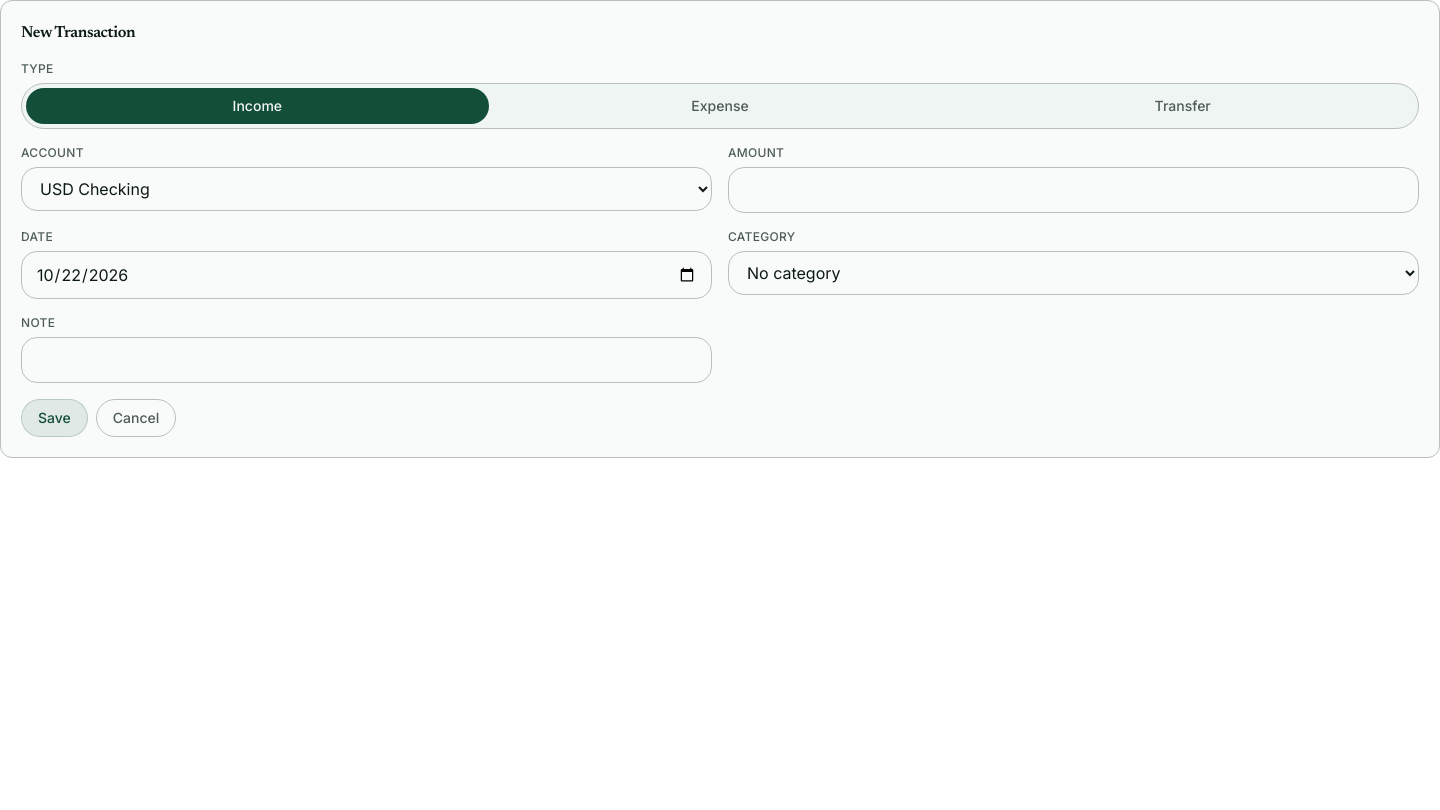
it: Automatic conversion › renders no conversion UI for a same-currency transfer
Step 1. Click the radio button labelled "Transfer" → (1183, 106), box top-left (951, 88), bottom-right (1414, 124)
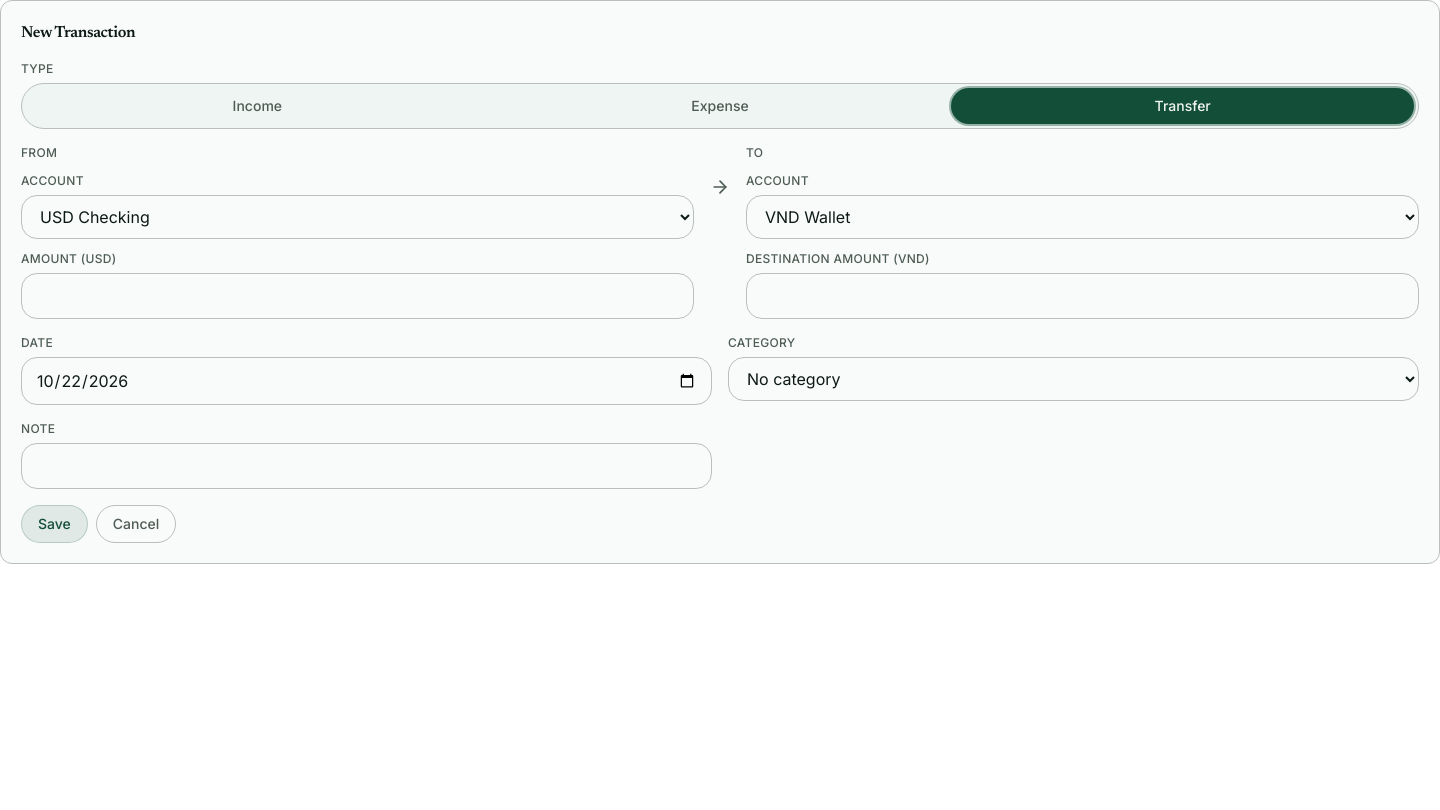
Step 2. Select "USD Savings" in the dropdown labelled "Account" below "To" → (1082, 217), box top-left (746, 195), bottom-right (1419, 239)
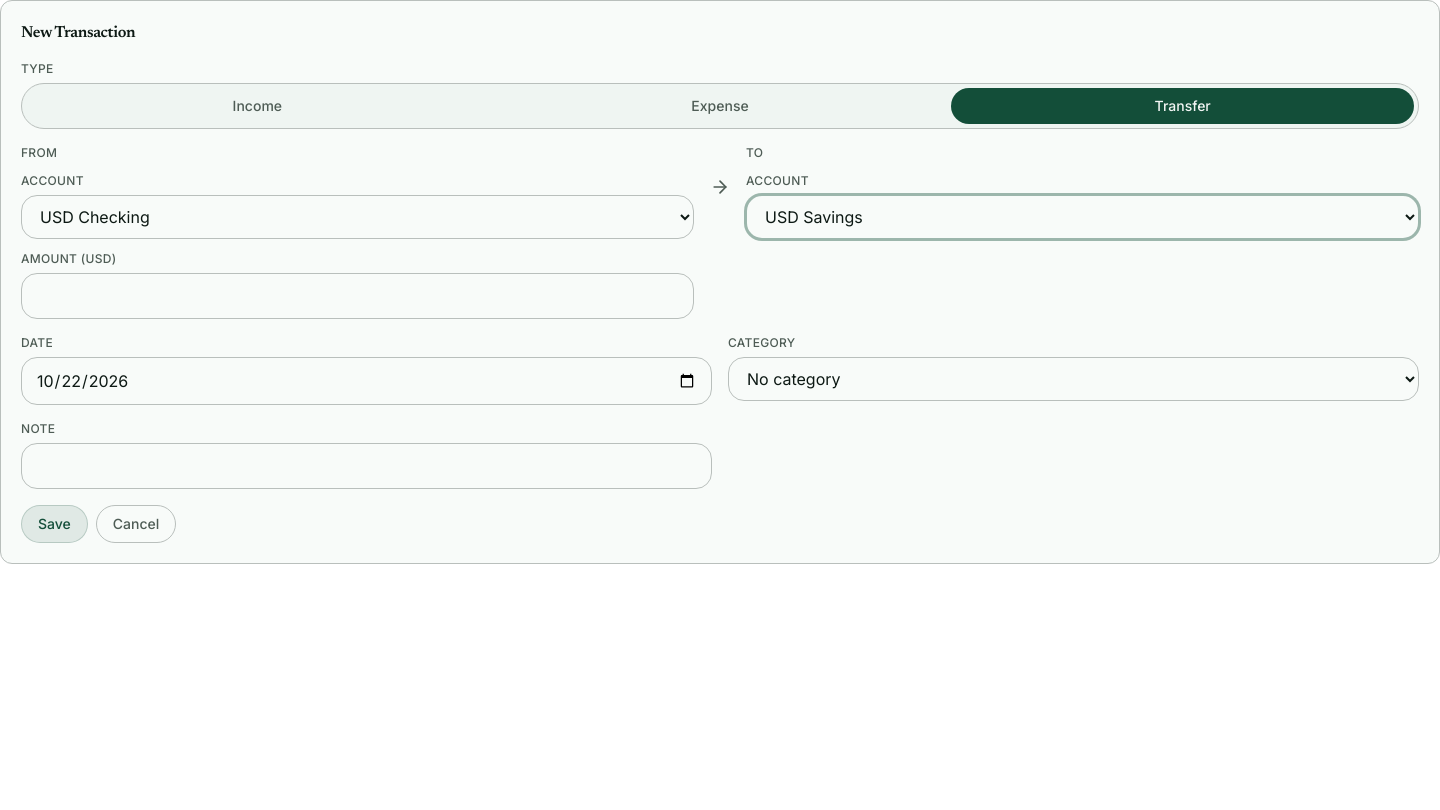
Expected: the text labelled "Destination Amount" is gone
